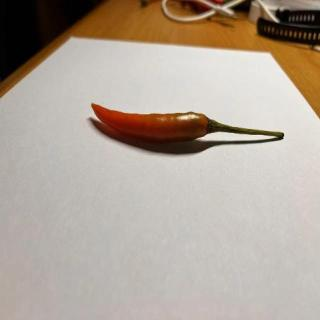Cabai Merah: (90, 102, 286, 145)
